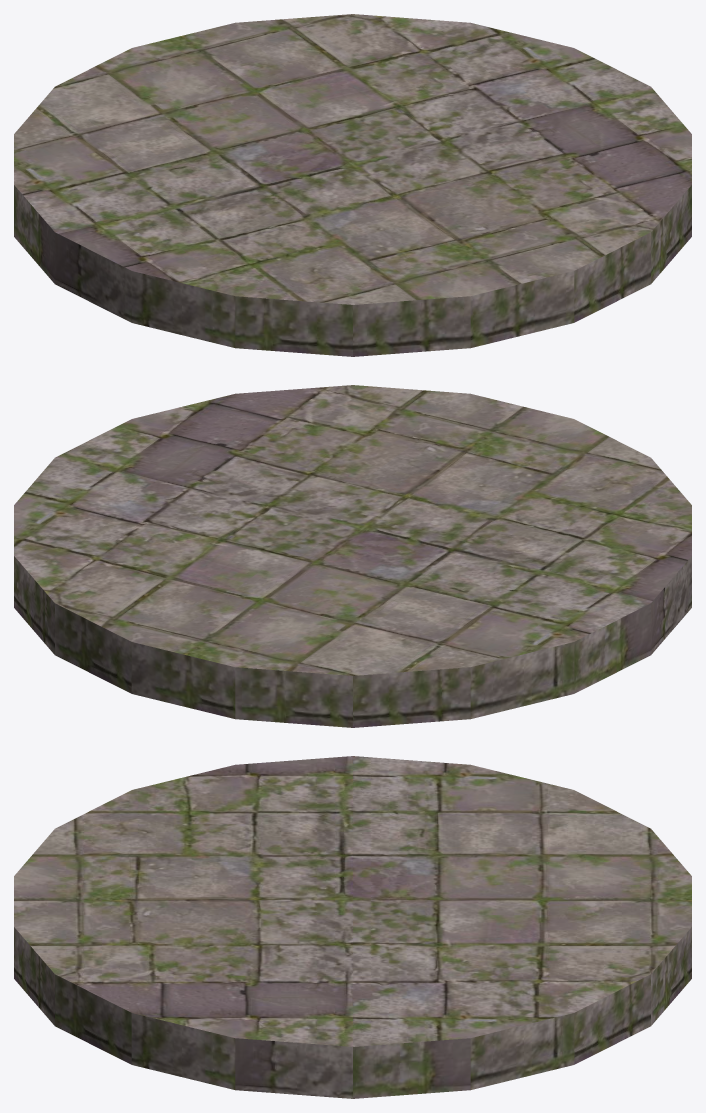
Rendered from JumpPlatform.fbx.
3 views of the same model, one above another, from view 1: azimuth 30°, elevation 25°; view 2: azimuth 150°, elevation 25°; view 3: azimuth 270°, elevation 25° (orthographic).
Visible parts, largest first — view 1: JumpPlatform; view 2: JumpPlatform; view 3: JumpPlatform.
Part boxes in pixels (<box>): JumpPlatform: <box>14,14,691,356</box>; JumpPlatform: <box>14,385,691,727</box>; JumpPlatform: <box>14,756,691,1098</box>.
Size of the model in its own units: 1200 by 100 by 1182.
